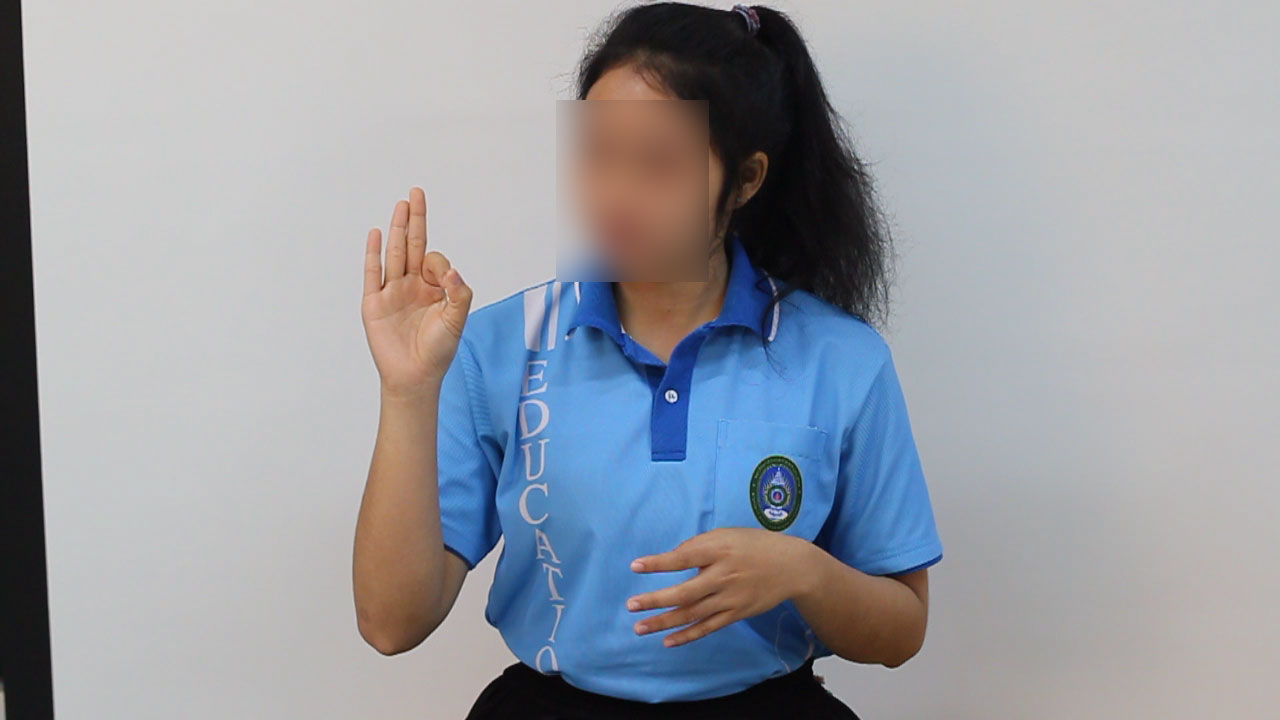for: (350, 180, 479, 410)
